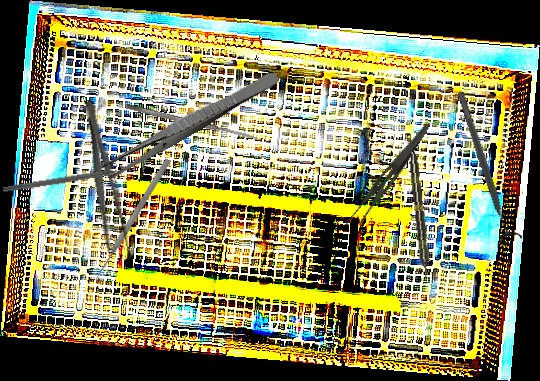Dressing Forceps: (99, 65, 282, 182), (343, 114, 432, 235), (75, 97, 136, 265)
Fixation Ring: (448, 87, 524, 248)
Handpiece: (407, 151, 432, 281)
Hook Surgical: (2, 165, 134, 195)
Pusher: (92, 157, 172, 282)
Spatula Surgical: (124, 102, 260, 143)
